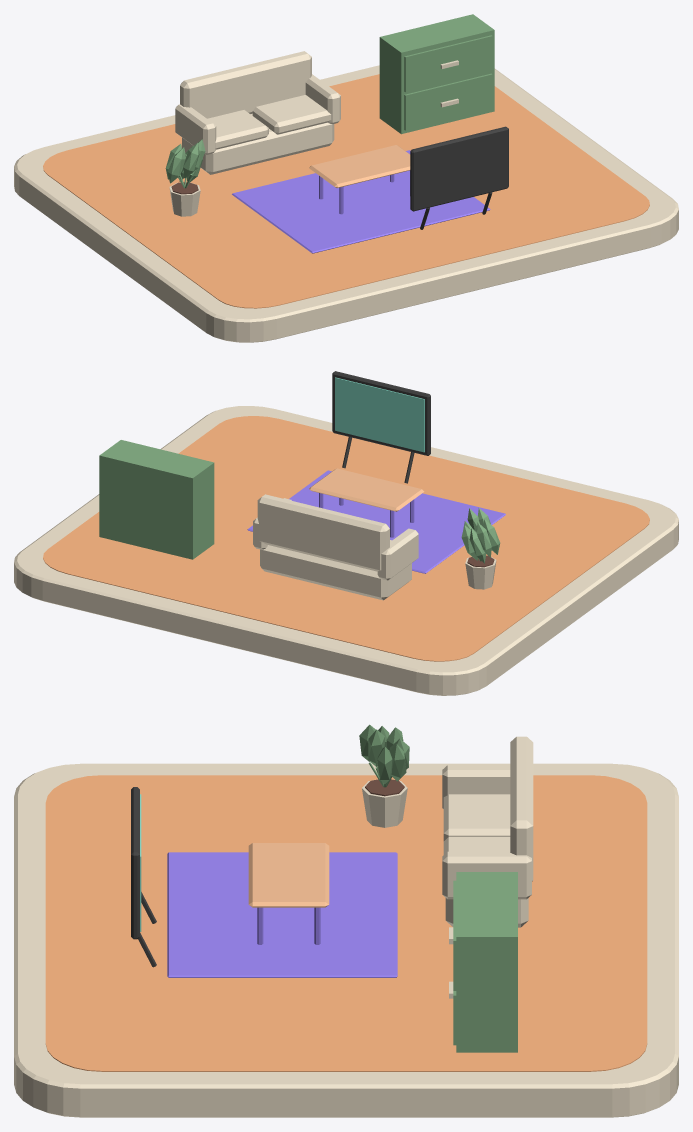
3 views of the same model, one above another, from view 1: azimuth 30°, elevation 25°; view 2: azimuth 150°, elevation 25°; view 3: azimuth 270°, elevation 25° (orthographic). The views are drawn at different scales.
Visible parts, largest first — view 1: COM-02 Floor Surface, COM-01 Rounded Base Direct, Cabinet, Rug, TV frame, Back, Base, Rounded table top, Pot, Seat cushion.001, Seat cushion, Arm (+1 smaller); view 2: COM-02 Floor Surface, COM-01 Rounded Base Direct, Cabinet, Back, Rug, Screen, Base, Rounded table top, Pot, TV frame, Arm; view 3: COM-02 Floor Surface, COM-01 Rounded Base Direct, Rug, Cabinet, Rounded table top, Pot, Seat cushion, Back, Arm.001, Arm, TV frame, Seat cushion.001.
Part boxes in pixels (x1,y1,x2,y2): COM-02 Floor Surface: (43, 74, 649, 308); COM-01 Rounded Base Direct: (14, 65, 678, 342); Cabinet: (379, 14, 494, 134); Rug: (232, 150, 490, 253); TV frame: (410, 126, 508, 211); Back: (180, 51, 311, 118); Base: (182, 113, 334, 174); Rounded table top: (309, 145, 410, 187); Pot: (165, 139, 205, 216); Seat cushion.001: (252, 95, 331, 134); Seat cushion: (207, 110, 268, 149); Arm: (175, 104, 216, 154); COM-02 Floor Surface: (43, 416, 649, 661); COM-01 Rounded Base Direct: (14, 406, 678, 695); Cabinet: (99, 440, 214, 559); Back: (257, 494, 389, 571); Rug: (247, 470, 505, 573); Screen: (335, 377, 424, 452); Base: (260, 545, 411, 600); Rounded table top: (309, 468, 424, 511); Pot: (461, 508, 500, 589); TV frame: (332, 371, 430, 455); Arm: (377, 528, 418, 580); COM-02 Floor Surface: (45, 775, 647, 1071); COM-01 Rounded Base Direct: (14, 763, 678, 1117); Rug: (167, 852, 397, 977); Cabinet: (449, 872, 517, 1052); Rounded table top: (248, 843, 329, 907); Pot: (359, 724, 409, 827); Seat cushion: (443, 794, 510, 840); Back: (510, 736, 533, 881); Arm.001: (442, 851, 531, 899); Arm: (442, 765, 510, 808); TV frame: (131, 787, 139, 939); Seat cushion.001: (443, 837, 510, 854).
Size of the model in its own units: 6 by 1.42 by 5.2.
Materials: 1 (1 with a texture image).
